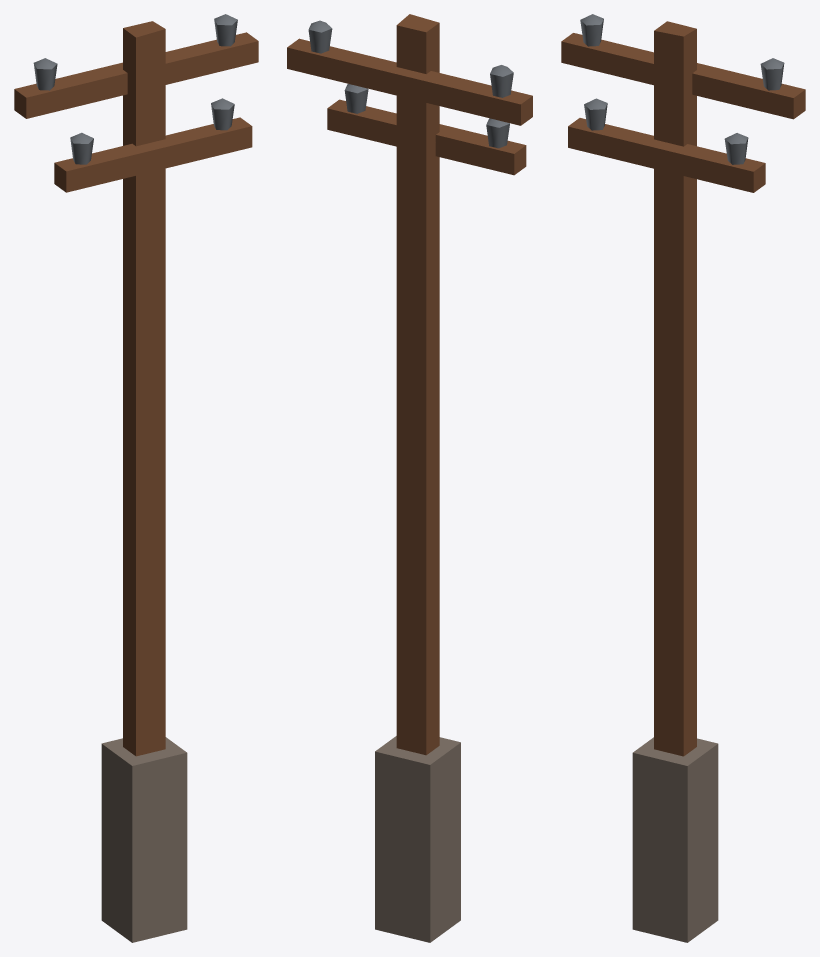
The model's file is pylon1.fbx.
3 renders of one model, left to right at view 1: azimuth 30°, elevation 25°; view 2: azimuth 150°, elevation 25°; view 3: azimuth 330°, elevation 25°, orthographic.
Parts seen in each view (by area): view 1: pylon1; view 2: pylon1; view 3: pylon1.
Part boxes in pixels (x1,y1,x2,y2): pylon1: (14, 14, 258, 942); pylon1: (287, 14, 532, 942); pylon1: (561, 14, 805, 942).
Bounding box in the file's own units: 193 × 711 × 44.24.
